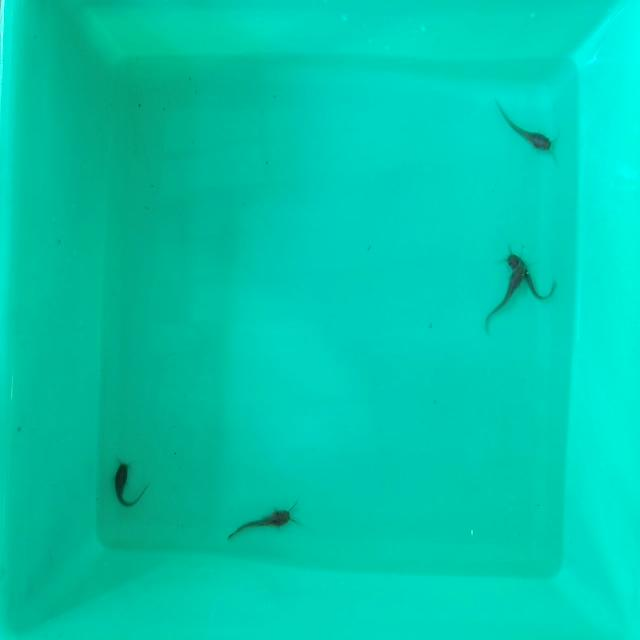lele: (491, 97, 556, 151), (224, 505, 296, 542), (510, 243, 549, 304), (110, 457, 148, 511), (488, 267, 525, 320)
